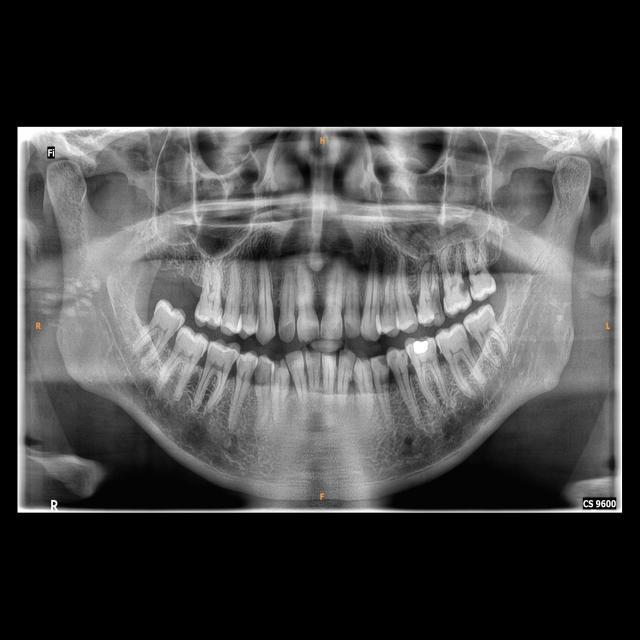dentin-curugu: (459, 267, 479, 299), (370, 351, 392, 374)
